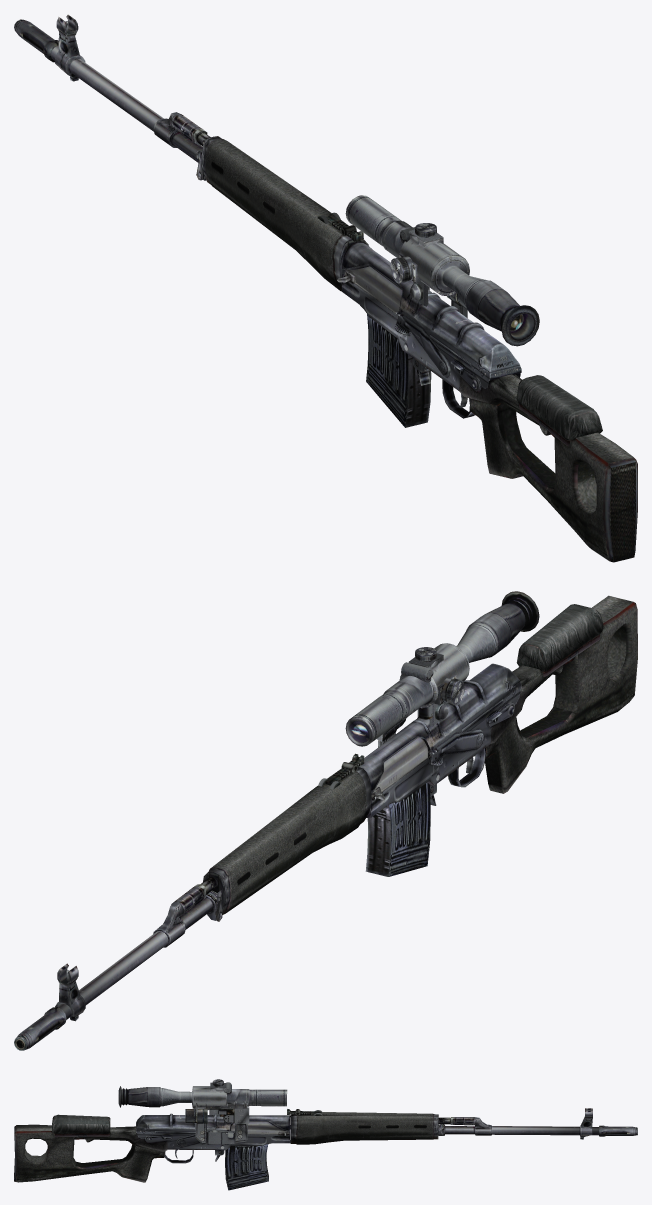
File: wpn_svd_hud.fbx
3 renders of one model, top to bottom at view 1: azimuth 30°, elevation 25°; view 2: azimuth 150°, elevation 25°; view 3: azimuth 270°, elevation 25°, orthographic. The views are drawn at different scales.
Visible parts, largest first — view 1: 0; view 2: 0; view 3: 0.
Boxes of the visible parts, box(x1,y1,x2,y2) form: 0: box(14, 14, 637, 562); 0: box(14, 591, 637, 1050); 0: box(14, 1079, 637, 1190).
Bounding box in the file's own units: 0.0751 × 0.2288 × 1.22.
